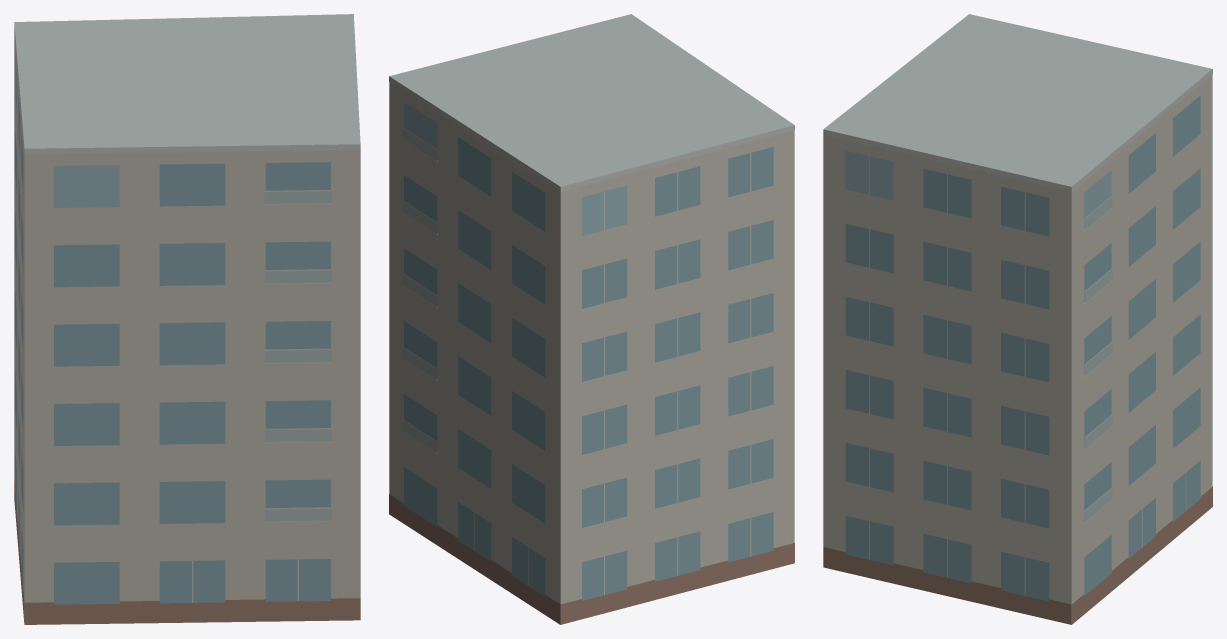
The model's file is survey-upis-33028723.glb.
The picture shows the model from 3 angles, left to right: view 1: azimuth 30°, elevation 25°; view 2: azimuth 150°, elevation 25°; view 3: azimuth 270°, elevation 25°; orthographic projection. The views are drawn at different scales.
Visible parts, largest first — view 1: survey-upis-33028723.tmp; view 2: survey-upis-33028723.tmp; view 3: survey-upis-33028723.tmp.
Part boxes in pixels (<box>): survey-upis-33028723.tmp: <box>14,14,360,624</box>; survey-upis-33028723.tmp: <box>389,14,794,624</box>; survey-upis-33028723.tmp: <box>823,14,1212,624</box>.
Size of the model in its own units: 16.6 by 19.6 by 15.8.
